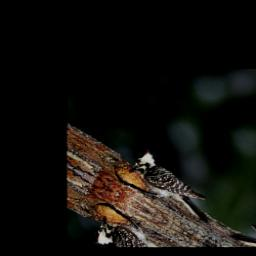Woodpecker: (121, 143, 228, 231)
